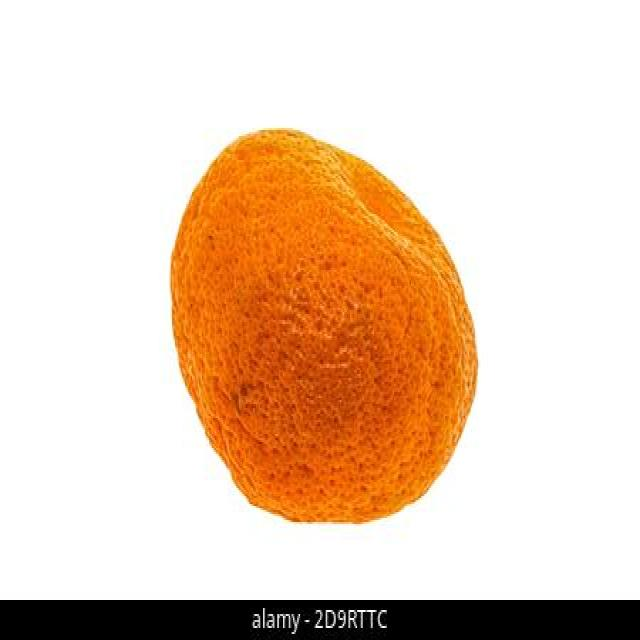overripe: (162, 116, 481, 533)
